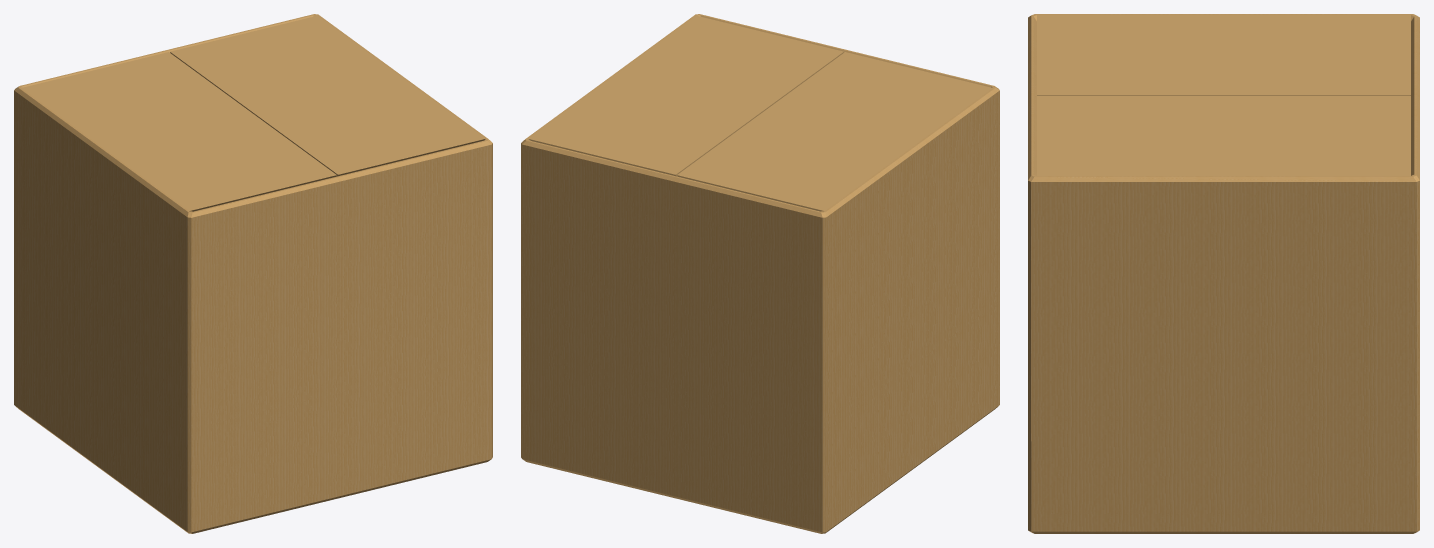
The model's file is Carton_Box_1.75_1.75_1.75_Colored.fbx.
3 renders of one model, left to right at view 1: azimuth 30°, elevation 25°; view 2: azimuth 150°, elevation 25°; view 3: azimuth 270°, elevation 25°, orthographic. The views are drawn at different scales.
Visible parts, largest first — view 1: Carton_Cube04; view 2: Carton_Cube04; view 3: Carton_Cube04.
Boxes of the visible parts, x1,y1,x2,y2 form: Carton_Cube04: (14,14,492,533); Carton_Cube04: (521,14,999,533); Carton_Cube04: (1028,14,1419,533).
Bounding box in the file's own units: 173 × 174 × 173.
Materials: 1 (1 with a texture image).
